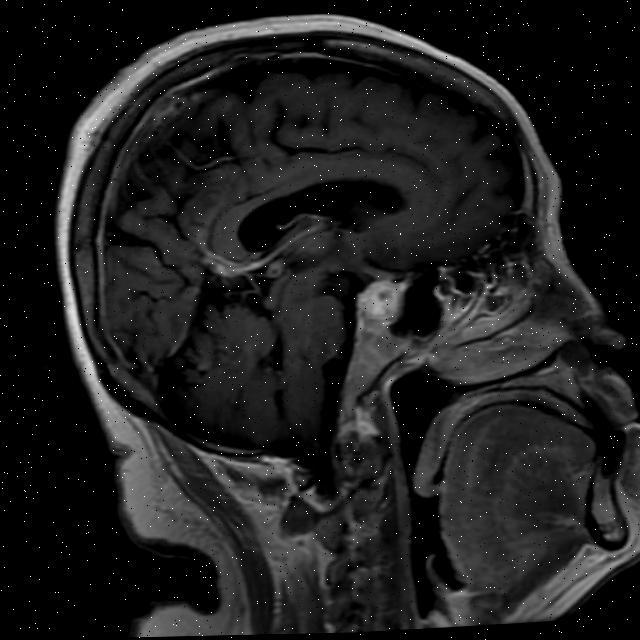Pituitary: (354, 279, 404, 326)
